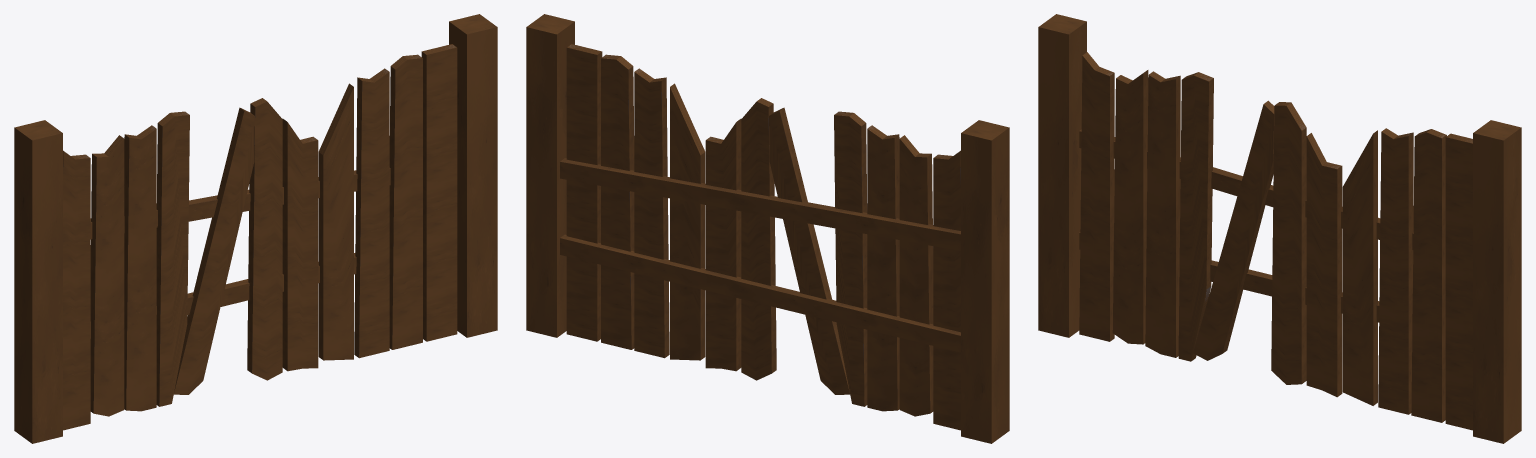
Rendered from Fence_ver3.fbx.
The picture shows the model from 3 angles, left to right: view 1: azimuth 30°, elevation 25°; view 2: azimuth 150°, elevation 25°; view 3: azimuth 330°, elevation 25°; orthographic projection.
Visible parts, largest first — view 1: Cube; view 2: Cube; view 3: Cube.
Boxes of the visible parts, x1,y1,x2,y2 form: Cube: (14,14,497,443); Cube: (526,14,1009,443); Cube: (1038,14,1521,443).
Size of the model in its own units: 761 by 475 by 50.67.
